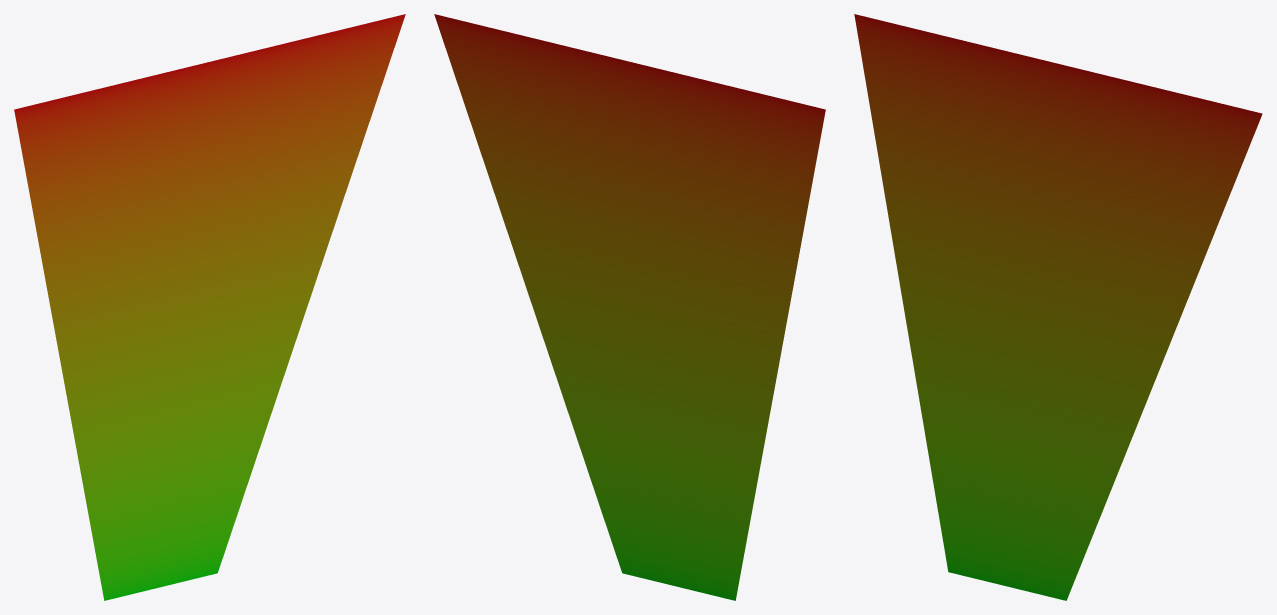
Rendered from Dead Broom Bush_LOD3_Var6_tlpjdhwia.fbx.
3 renders of one model, left to right at view 1: azimuth 30°, elevation 25°; view 2: azimuth 150°, elevation 25°; view 3: azimuth 330°, elevation 25°, orthographic. The views are drawn at different scales.
Visible parts, largest first — view 1: _095e_Var6_LOD3; view 2: _095e_Var6_LOD3; view 3: _095e_Var6_LOD3.
Part boxes in pixels (<box>): _095e_Var6_LOD3: <box>14,14,405,600</box>; _095e_Var6_LOD3: <box>434,14,825,600</box>; _095e_Var6_LOD3: <box>854,14,1262,600</box>.
Bounding box in the file's own units: 21.9 × 27.43 × 4.05e-06.
